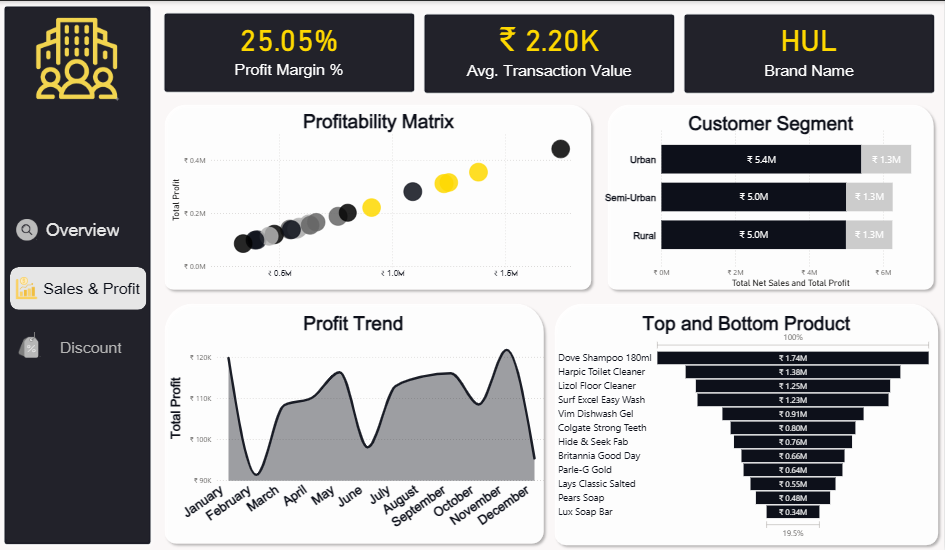

This screenshot's page, from the dashboard's own definition file:
{"tool":"powerbi","page":{"name":"Sales  & Profit","canvas":[1580,920],"ordinal":1},"visuals":[{"type":"shape","box":[0,0,262.5,917.5],"z":0},{"type":"shape","box":[703.1,12.7,435.9,149.3],"z":1000},{"type":"shape","box":[1138.1,12.7,435.9,149.3],"z":2000},{"type":"shape","box":[268,12,435.9,149.3],"z":3000},{"type":"card","fields":{"Values":["dim_category.Profit Margin %"]},"box":[268.1,23.4,435,72.8],"z":4000},{"type":"textbox","box":[268.1,90.8,435,56.8],"z":5000},{"type":"card","fields":{"Values":["dim_category.Average Transaction Value"]},"box":[703.2,24.1,435,72.8],"z":6000},{"type":"card","fields":{"Values":["dim_category.Top Brand Name"]},"box":[1137.3,24.2,435.2,73.1],"z":7000},{"type":"textbox","box":[703.2,91.5,435,56.8],"z":8000},{"type":"shape","box":[1008,164,564,328],"z":9000},{"type":"textbox","box":[1138.2,91.5,435,56.8],"z":10000},{"type":"shape","box":[267.5,497.5,652.5,420],"z":11000},{"type":"shape","box":[920,497.5,660,422.5],"z":12000},{"type":"shape","box":[268,164,732,328],"z":13000},{"type":"scatterChart","fields":{"X":["fact_sales_transactions.Total Net Sales"],"Y":["fact_sales_transactions.Total Profit"],"Category":["dim_product.product_name"],"Series":["dim_category.category_name"],"Size":["Sum(fact_sales_transactions.quantity)"]},"box":[282,208,704,268],"z":14000},{"type":"barChart","fields":{"Category":["dim_customer.segment"],"Y":["fact_sales_transactions.Total Net Sales","fact_sales_transactions.Total Profit"]},"box":[1021.4,202.9,538.6,282.9],"z":15000},{"type":"stackedAreaChart","fields":{"Category":["dim_date.date.Variation.Date Hierarchy.Month"],"Y":["fact_sales_transactions.Total Profit"]},"box":[280,547.5,640,357.5],"z":16000},{"type":"funnel","fields":{"Category":["dim_product.product_name"],"Y":["fact_sales_transactions.Total Net Sales"]},"box":[930,547.5,635,357.5],"z":17000},{"type":"textbox","box":[282,174,704,58],"z":18000},{"type":"textbox","box":[1008,178,564,58],"z":19000},{"type":"textbox","box":[920,512.5,660,57.5],"z":20000},{"type":"textbox","box":[282.5,512.5,620,57.5],"z":21000},{"type":"shape","box":[18.3,445,228.3,71.7],"z":22000},{"type":"pageNavigator","box":[41.7,340,195,83.3],"z":23000},{"type":"pageNavigator","box":[43.3,438.3,223.3,83.3],"z":24000},{"type":"pageNavigator","box":[41.7,536.7,223.3,83.3],"z":25000},{"type":"image","box":[27,462,39,37],"z":26000},{"type":"image","box":[27,364,39,36],"z":27000},{"type":"image","box":[27,554,45,43],"z":28000},{"type":"image","box":[15.9,19.4,229.5,151.8],"z":28001}]}

Visuals, with their boxes on the page's 1580x920 design canvas (x1, y1, x2, y2). These are canvas units, not pixel positions in the 945x550 screenshot, which may show the page scaled, cropped or inside an application window:
shape: crop(0, 0, 262, 918)
shape: crop(703, 13, 1139, 162)
shape: crop(1138, 13, 1574, 162)
shape: crop(268, 12, 704, 161)
card - dim_category.Profit Margin %: crop(268, 23, 703, 96)
textbox: crop(268, 91, 703, 148)
card - dim_category.Average Transaction Value: crop(703, 24, 1138, 97)
card - dim_category.Top Brand Name: crop(1137, 24, 1572, 97)
textbox: crop(703, 92, 1138, 148)
shape: crop(1008, 164, 1572, 492)
textbox: crop(1138, 92, 1573, 148)
shape: crop(268, 498, 920, 918)
shape: crop(920, 498, 1580, 920)
shape: crop(268, 164, 1000, 492)
scatterChart - fact_sales_transactions.Total Net Sales x fact_sales_transactions.Total Profit: crop(282, 208, 986, 476)
barChart - dim_customer.segment x fact_sales_transactions.Total Net Sales: crop(1021, 203, 1560, 486)
stackedAreaChart - dim_date.date.Variation.Date Hierarchy.Month x fact_sales_transactions.Total Profit: crop(280, 548, 920, 905)
funnel - dim_product.product_name x fact_sales_transactions.Total Net Sales: crop(930, 548, 1565, 905)
textbox: crop(282, 174, 986, 232)
textbox: crop(1008, 178, 1572, 236)
textbox: crop(920, 512, 1580, 570)
textbox: crop(282, 512, 902, 570)
shape: crop(18, 445, 247, 517)
pageNavigator: crop(42, 340, 237, 423)
pageNavigator: crop(43, 438, 267, 522)
pageNavigator: crop(42, 537, 265, 620)
image: crop(27, 462, 66, 499)
image: crop(27, 364, 66, 400)
image: crop(27, 554, 72, 597)
image: crop(16, 19, 245, 171)
